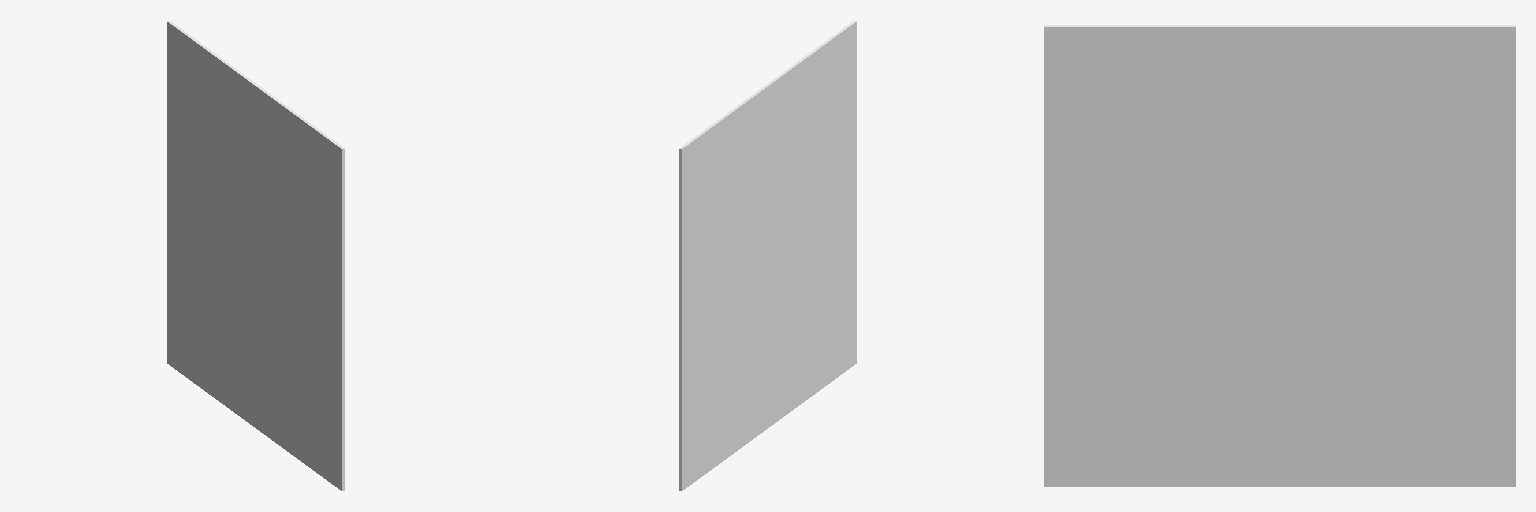
robot.urdf — Truck_Trailer_Back:
<?xml version="1.0" ?>
<robot name="Truck_Trailer_Back">
  <link name="Truck_Trailer_Back">
    <inertial>
      <mass value="183.86568451587152"/>
      <inertia ixx="1.1962118796191482e+17" ixy="-11344.53490299777" ixz="-4452.194829855728" iyy="1.0285584402486662e+17" iyz="-34590.129062725275" izz="2.2245726091443702e+17"/>
      <origin xyz="0.0 0.0 0.0" rpy="0.0 0.0 0.0"/>
    </inertial>
    <visual>
      <origin xyz="4.0127 0.0 1.397" rpy="0.0 0.0 0.0"/>
      <geometry>
        <box size="0.0254 2.5908 2.794"/>
      </geometry>
      <material name="Truck_Trailer_Back_material">
        <color rgba="1 1 1 0.1"/>
      </material>
    </visual>
    <collision name="collision">
      <origin xyz="4.0127 0.0 1.397" rpy="0.0 0.0 0.0"/>
      <geometry>
        <box size="0.0254 2.5908 2.794"/>
      </geometry>
    </collision>
  </link>
</robot>

--- What the picture shows (computed from the rendered views, not written in the file) ---
The picture shows the robot from 3 angles, left to right: view 1: azimuth 30°, elevation 25°; view 2: azimuth 150°, elevation 25°; view 3: azimuth 270°, elevation 25°; orthographic projection.
Robot: Truck_Trailer_Back — 1 links, 0 joints (none); root link Truck_Trailer_Back; default pose: every joint at zero.
Links seen in each view (by area): view 1: Truck_Trailer_Back; view 2: Truck_Trailer_Back; view 3: Truck_Trailer_Back.
Link boxes in pixels (x1,y1,x2,y2): Truck_Trailer_Back: (167, 21, 344, 490); Truck_Trailer_Back: (679, 21, 856, 490); Truck_Trailer_Back: (1044, 25, 1515, 486).
Bounding box of the posed robot: 0.0254 × 2.59 × 2.79 m (x, y, z).
Geometry: primitives only (box / cylinder / sphere), no mesh files.